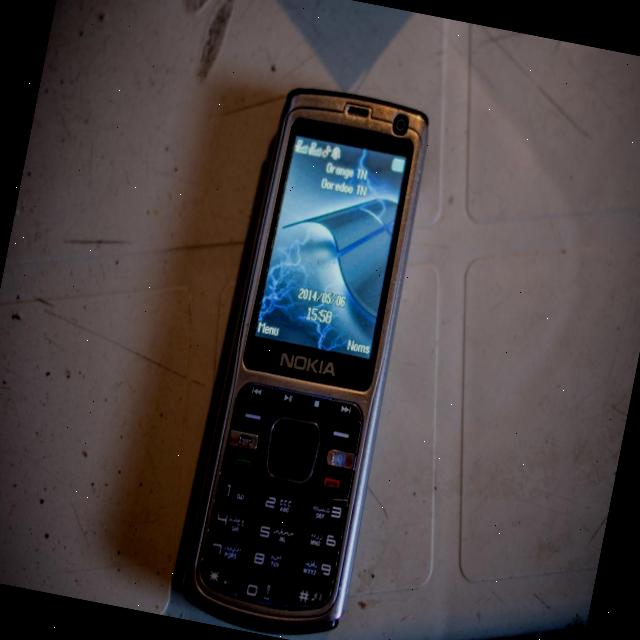Phone: (167, 72, 443, 640)
